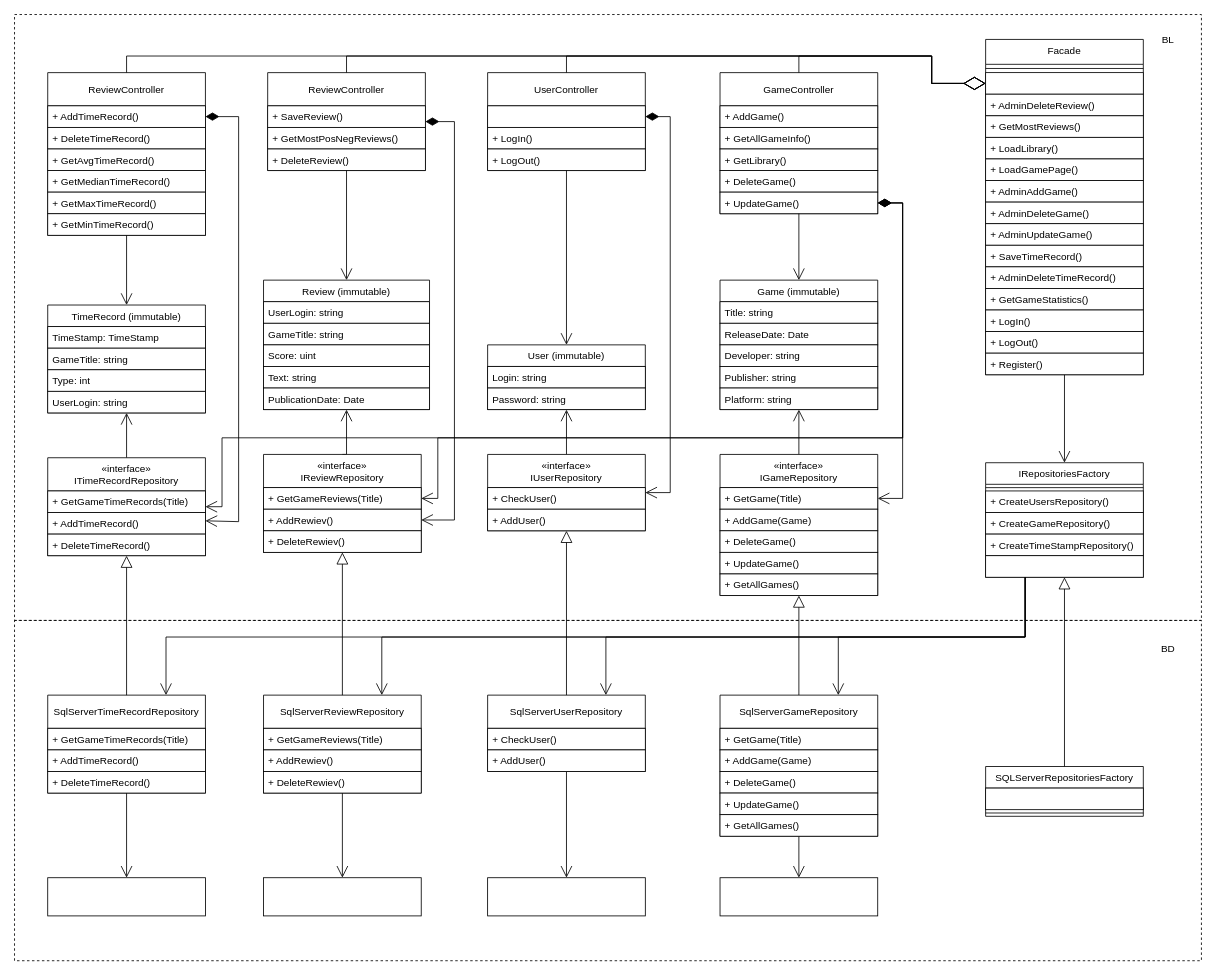
This 1216x975 diagram has some shape labels left out. The shapes that lost their labels are listed below. From the top down, each one's centre as x and y in pixels, then its label:
pixel 1064 83: + SaveRewiew()
pixel 566 116: + RegisterUser()
pixel 1064 566: + CreateReviewRepository()
pixel 1064 798: - context: SqlServerContext
pixel 126 896: TimeRecord= <uint, string, int, string>
pixel 342 896: Review = <string, string, uint, string, date>
pixel 566 896: User = <string, string>
pixel 798 896: Game = <string, date, string, string, string>
